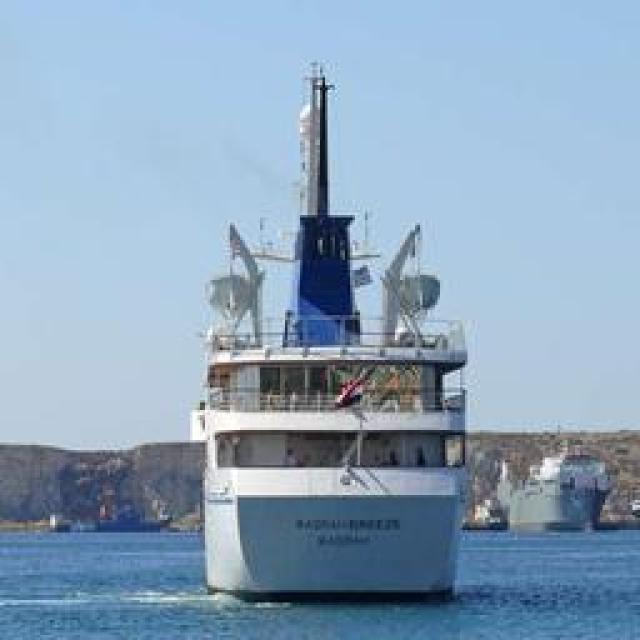CIV_Ship: (196, 94, 472, 596)
